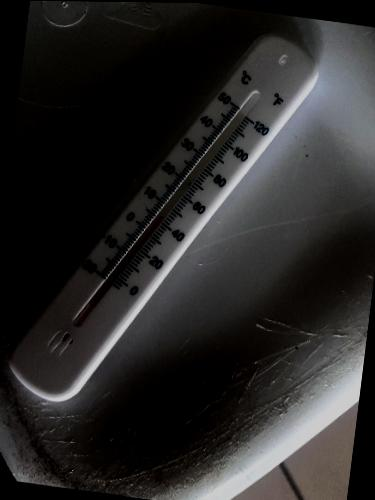thermo: (0, 27, 336, 414)
